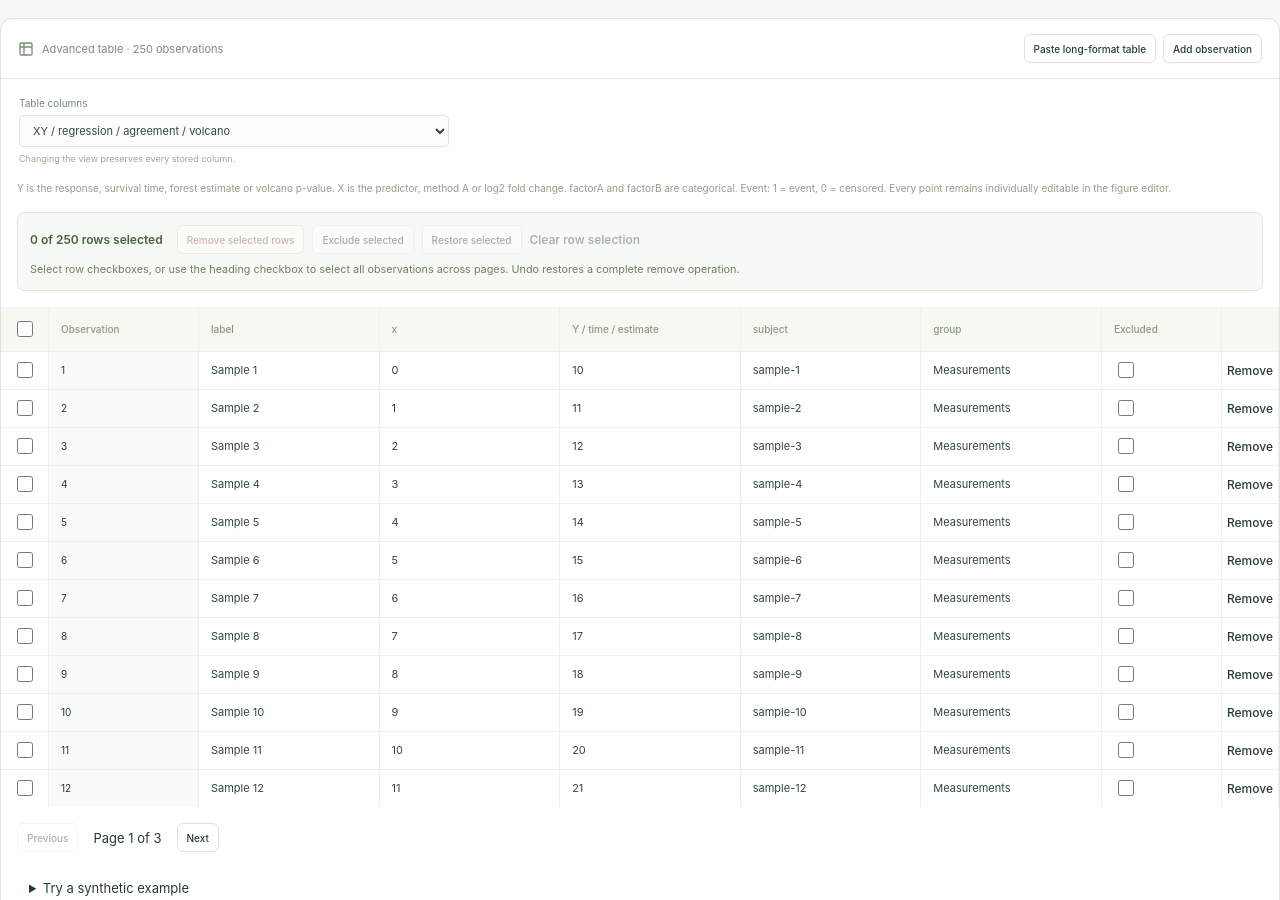
Test: selects all observations across pages and can remove every row in one undoable callback
Later steps or results of the test are not shown.
Click the checkbox named "Select all advanced observations" at [25, 329], box [17, 321, 33, 337]
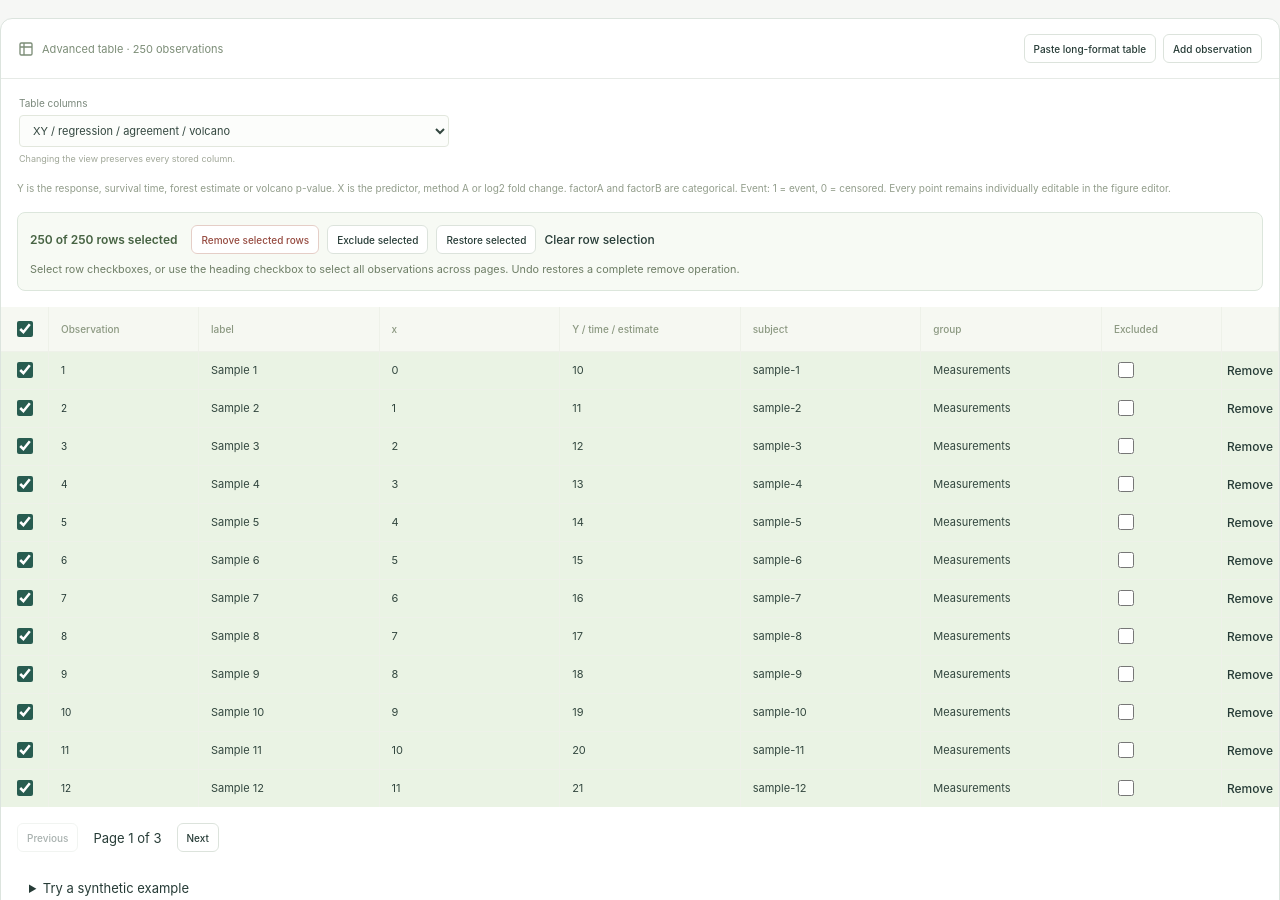
Check: the button "Remove selected rows" is shown, box [192, 225, 319, 254]
Check: the text "250 of 250 rows selected" is shown, box [30, 232, 178, 247]
